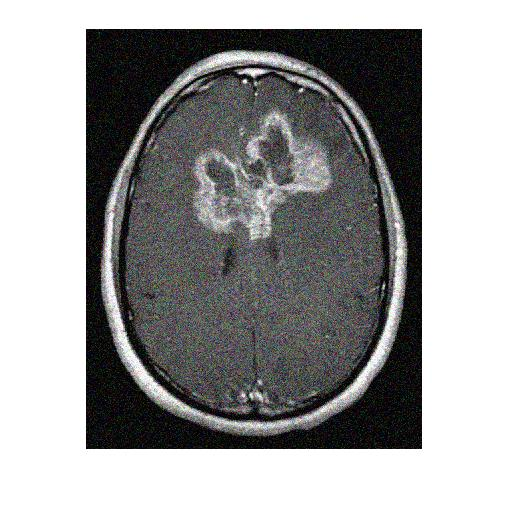Brain_Cancer: (198, 132, 322, 206)
